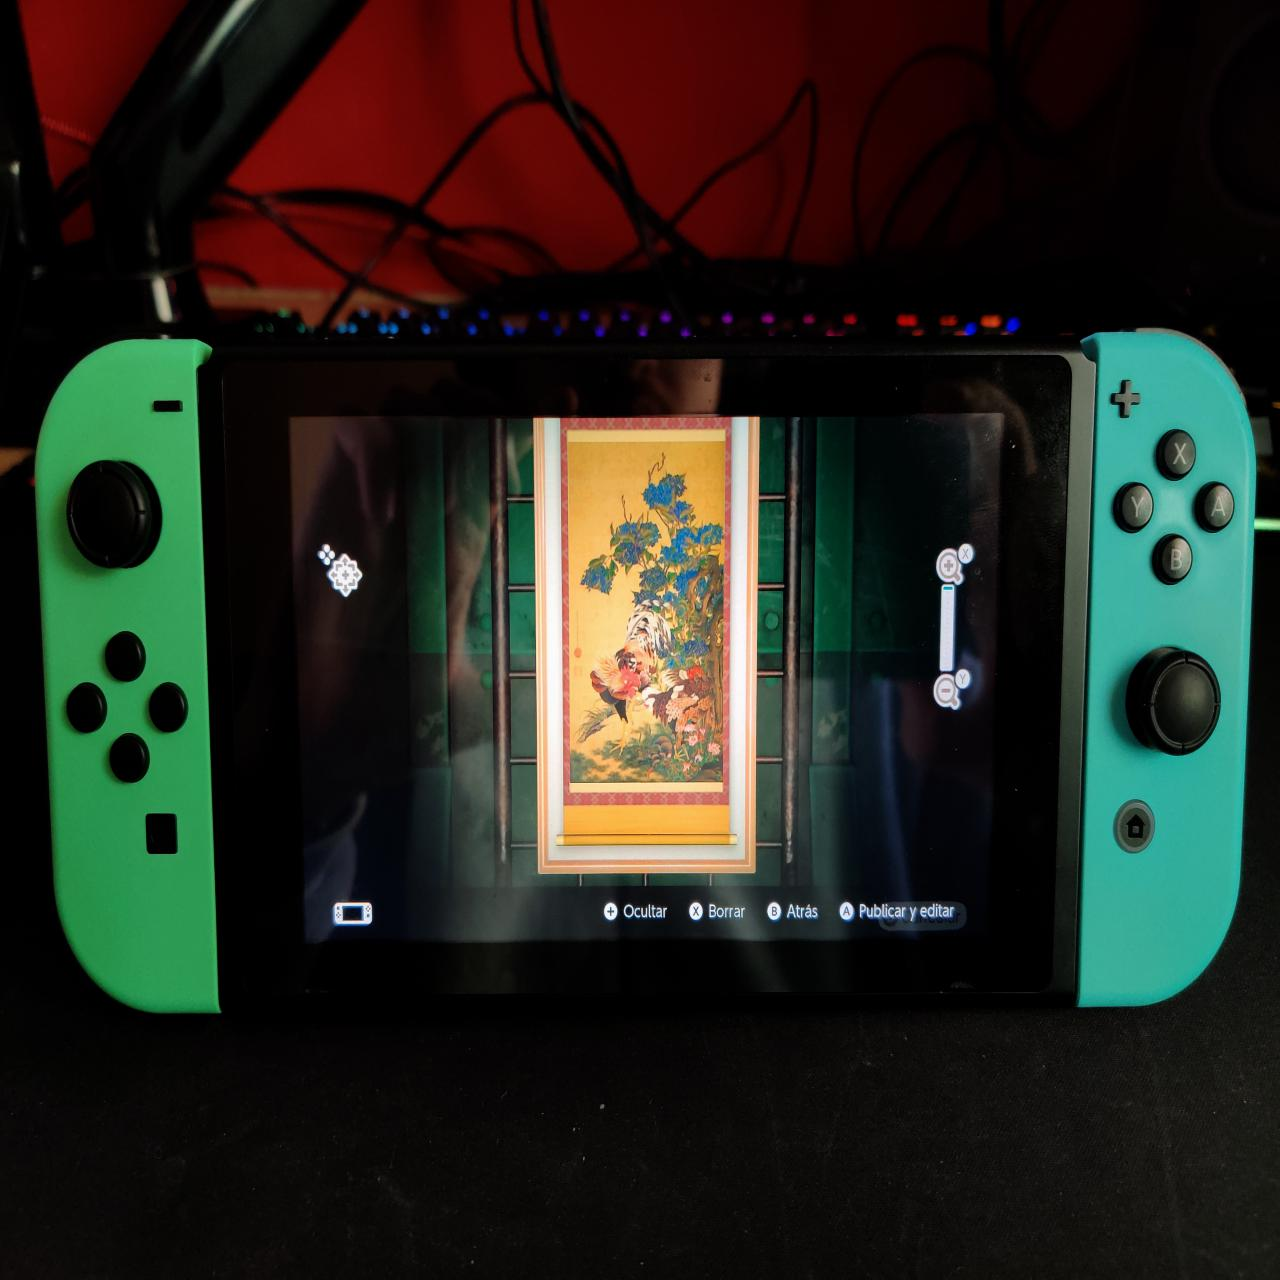Ajisaisoukeizu: (568, 438, 728, 790)
